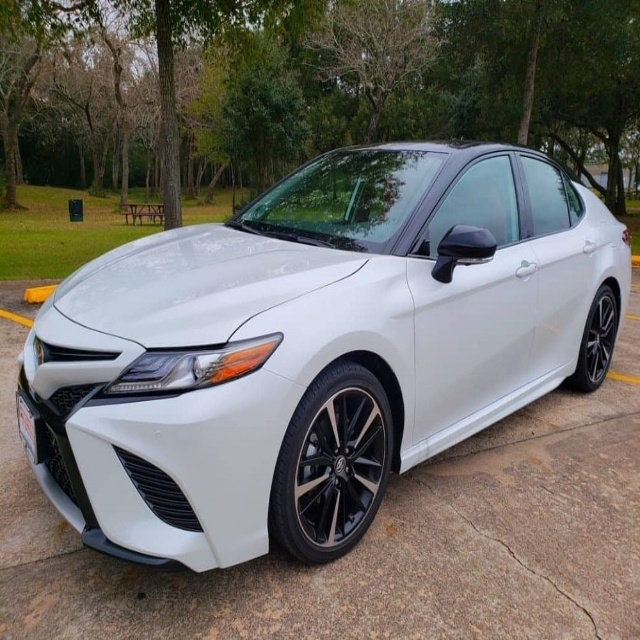Car: (15, 139, 632, 573)
